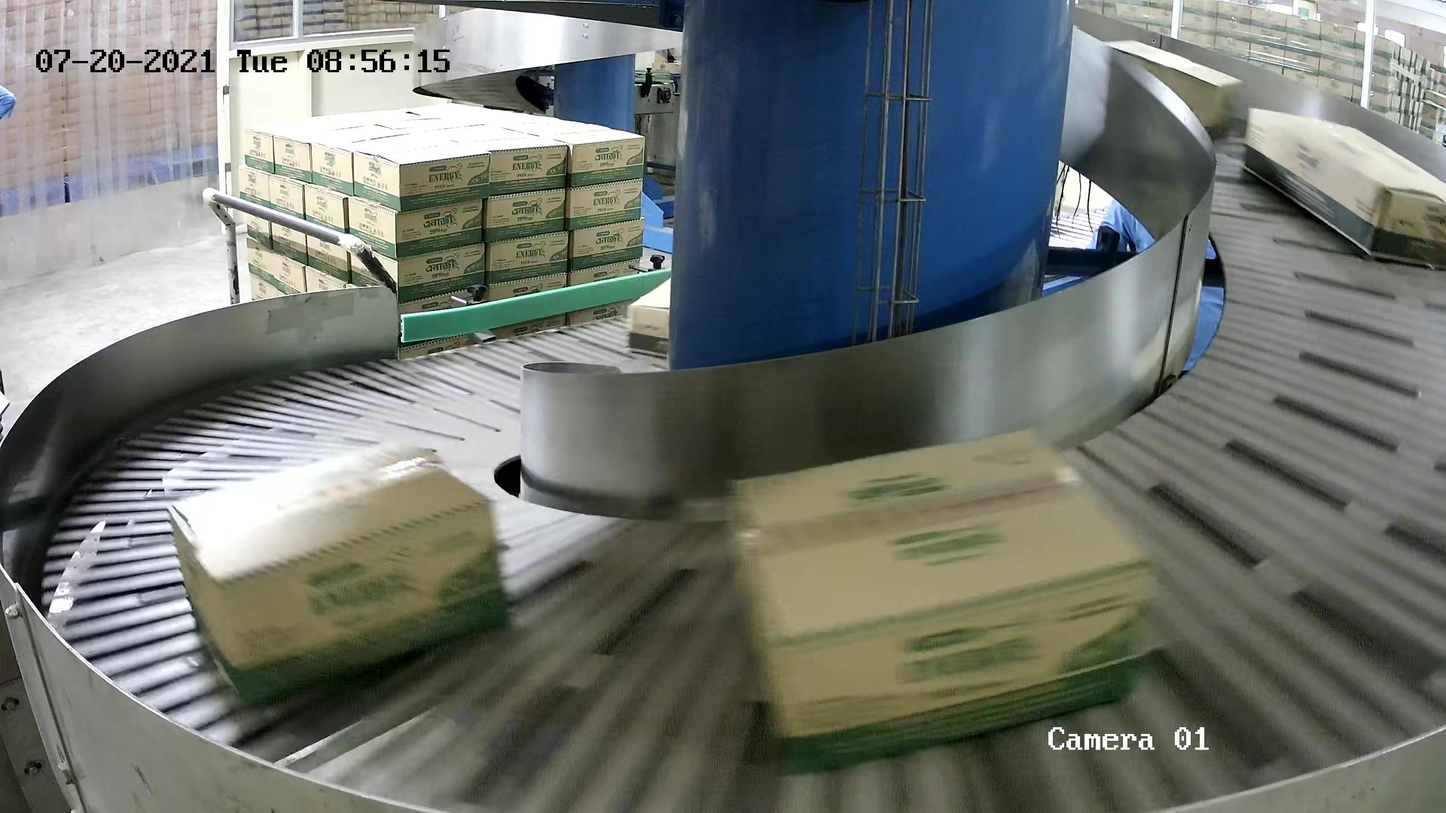Box: (726, 422, 1159, 778), (165, 436, 511, 704), (1239, 105, 1446, 271), (1099, 38, 1244, 144), (627, 275, 671, 359)
